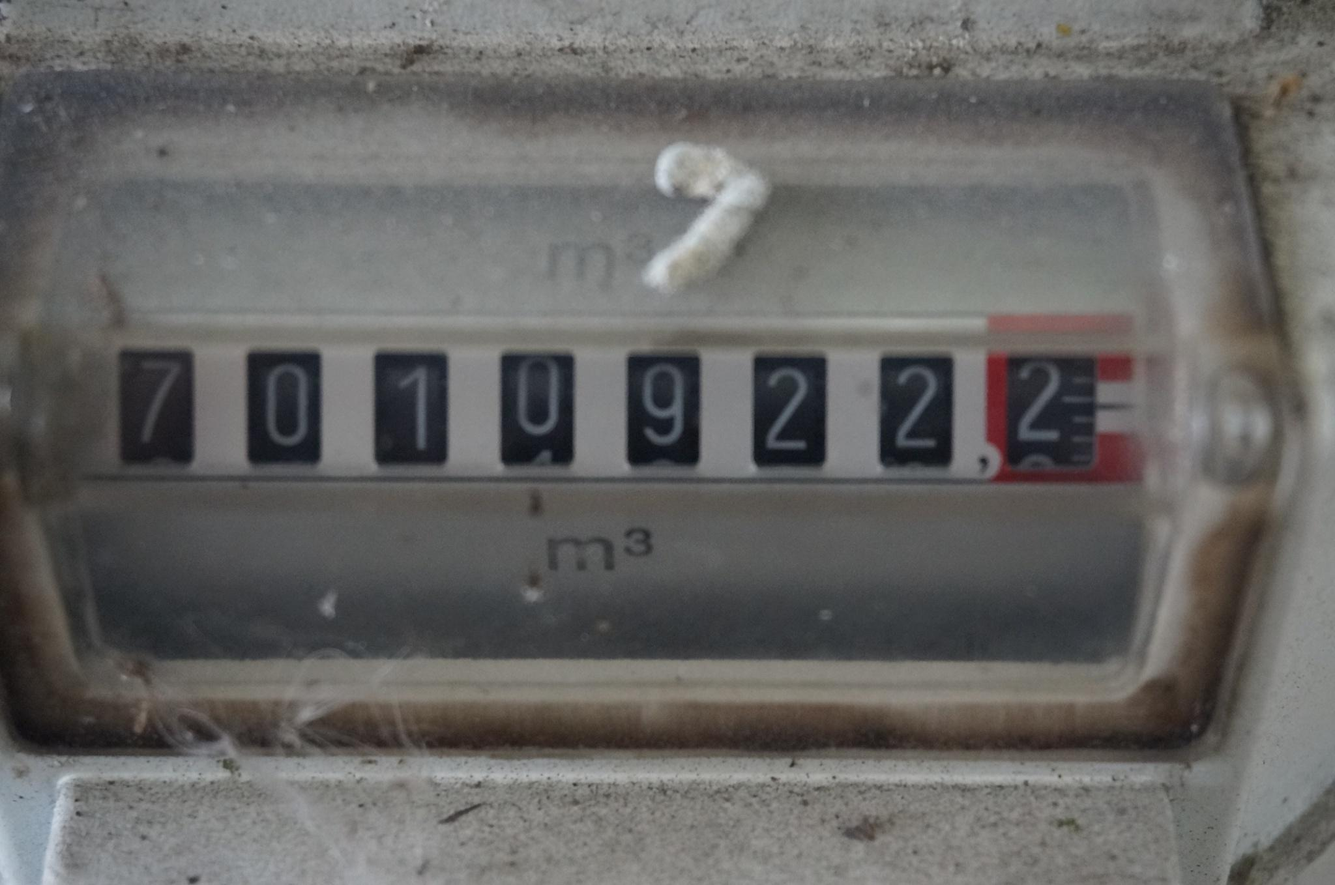analog_dial: (62, 343, 1148, 483)
